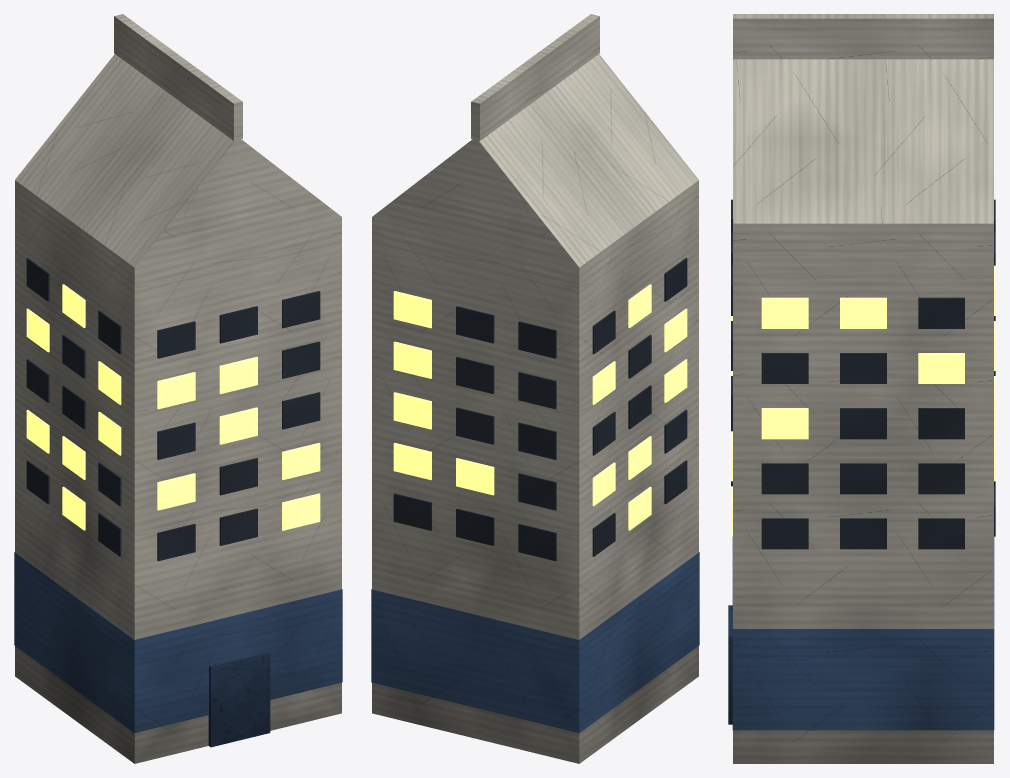
Rendered from building_carton.glb.
The picture shows the model from 3 angles, left to right: view 1: azimuth 30°, elevation 25°; view 2: azimuth 150°, elevation 25°; view 3: azimuth 270°, elevation 25°; orthographic projection. The views are drawn at different scales.
Parts seen in each view (by area): view 1: building_carton, group_2, group_50; view 2: building_carton, group_18, group_50; view 3: building_carton, group_34, group_2, group_18.
Part boxes in pixels (<box>): building_carton: <box>14,14,342,763</box>; group_2: <box>157,291,320,561</box>; group_50: <box>26,258,121,556</box>; building_carton: <box>371,14,699,763</box>; group_18: <box>393,291,556,561</box>; group_50: <box>592,258,687,556</box>; building_carton: <box>728,14,994,763</box>; group_34: <box>761,297,964,549</box>; group_2: <box>731,199,732,536</box>; group_18: <box>994,199,995,536</box>.
Size of the model in its own units: 7.1 by 20.5 by 7.18.
5 materials, 4 textured.
